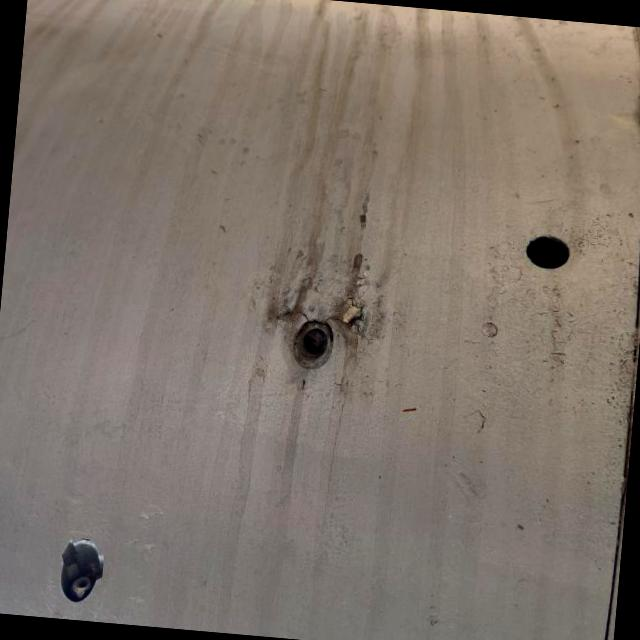crack: (332, 290, 378, 336)
